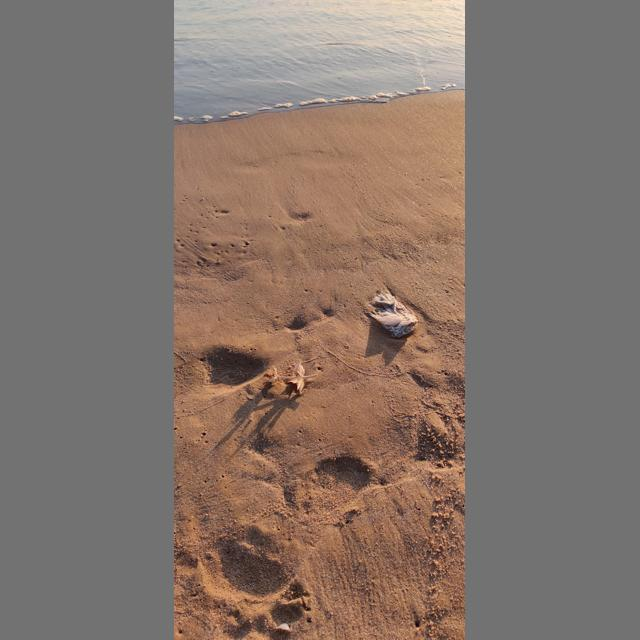litter: (366, 289, 420, 339)
